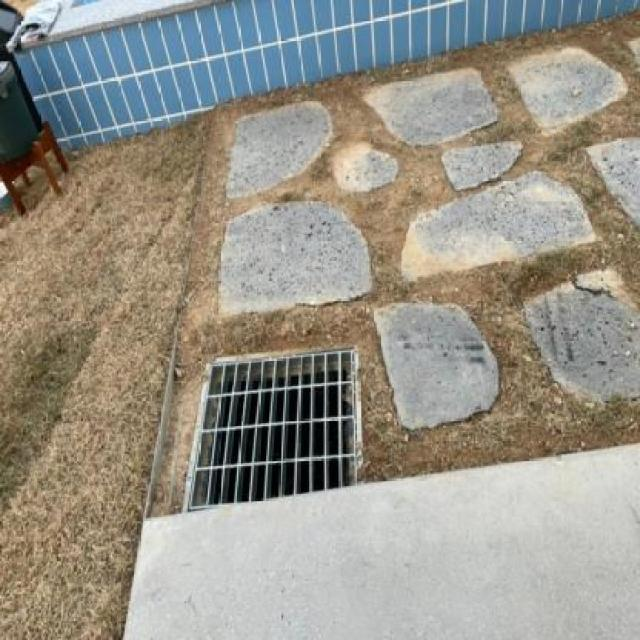Drain Hole: (189, 324, 409, 526)
